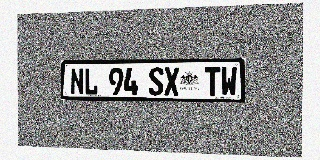4: (124, 67, 138, 95)
9: (109, 68, 123, 95)
L: (84, 68, 98, 95)
N: (70, 68, 84, 95)
S: (149, 67, 164, 96)
T: (205, 67, 220, 96)
W: (221, 67, 237, 96)
X: (164, 67, 179, 96)
